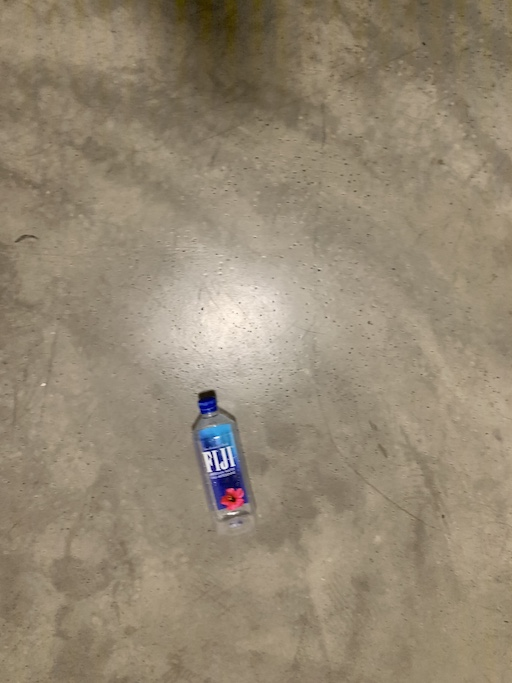plastic_bottle: (190, 387, 259, 523)
